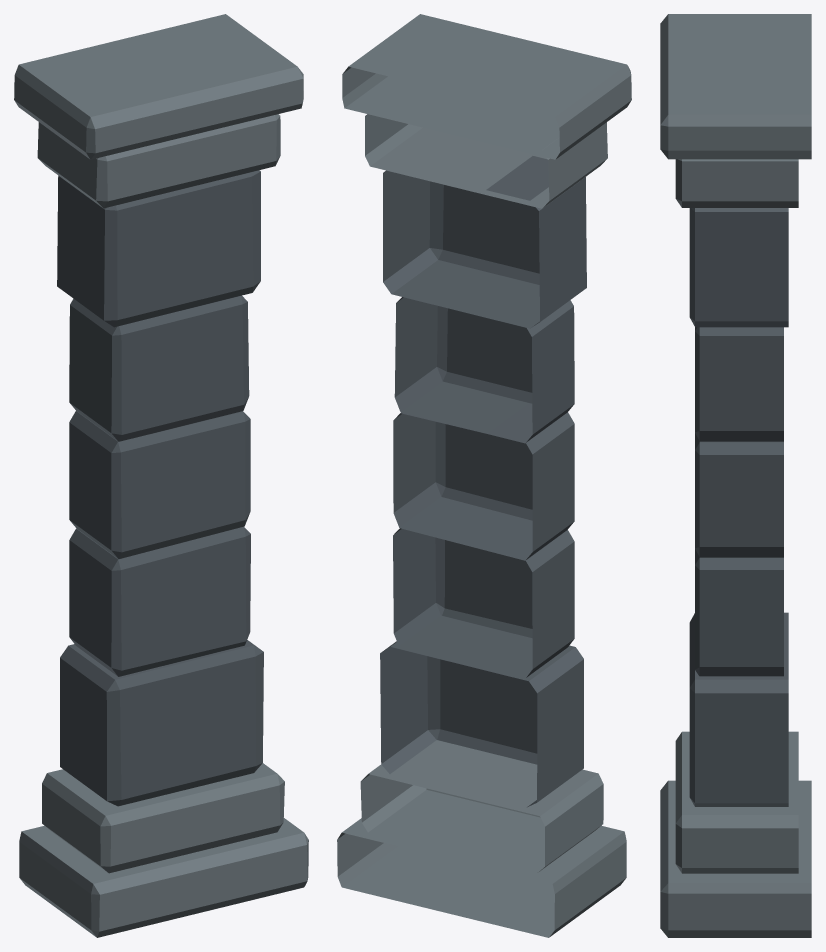
Rendered from Pillar_Wall.fbx.
The picture shows the model from 3 angles, left to right: view 1: azimuth 30°, elevation 25°; view 2: azimuth 150°, elevation 25°; view 3: azimuth 270°, elevation 25°; orthographic projection.
Visible parts, largest first — view 1: Pillar_Wall; view 2: Pillar_Wall; view 3: Pillar_Wall.
Boxes of the visible parts, x1,y1,x2,y2 form: Pillar_Wall: (14,14,308,937); Pillar_Wall: (337,14,631,937); Pillar_Wall: (660,14,811,937).
Size of the model in its own units: 57.56 by 203 by 33.93.
